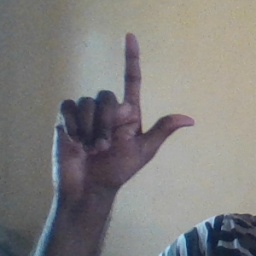L: (46, 31, 196, 189)
